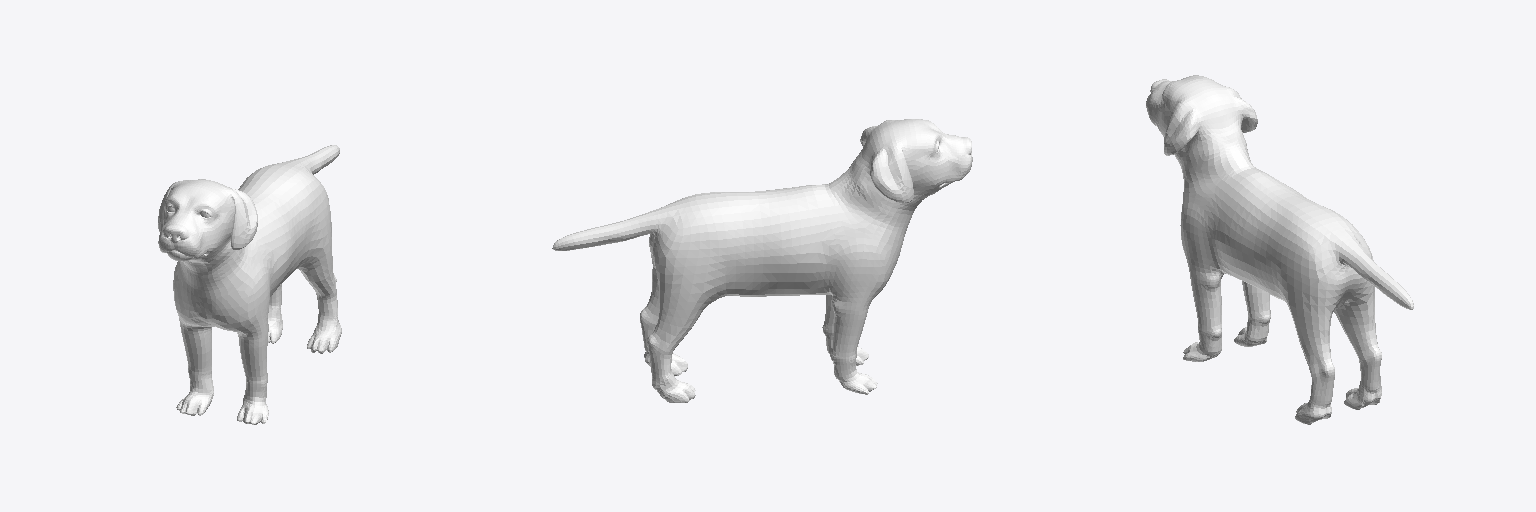
File: dog.obj
3 views of the same model, side by side, from view 1: azimuth 30°, elevation 25°; view 2: azimuth 150°, elevation 25°; view 3: azimuth 270°, elevation 25° (orthographic).
Bounding box in the file's own units: 1.33 × 1.07 × 1.03.